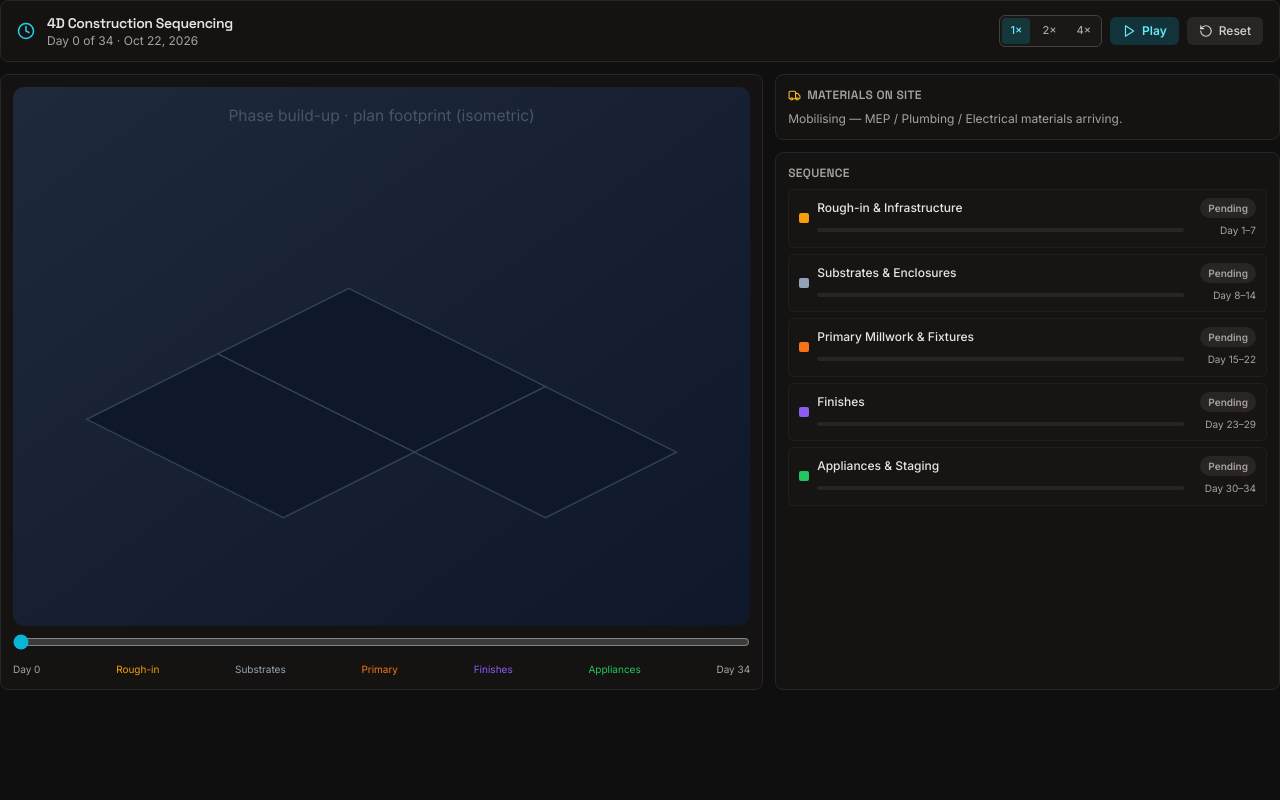
Test case: ConstructionSequenceView › scrubbing into the substrates phase marks rough-in complete
The width and height of the screenshot is (1280, 800).
Set the slider named "Construction timeline" to "10" at (233, 642), box [13, 634, 750, 650]
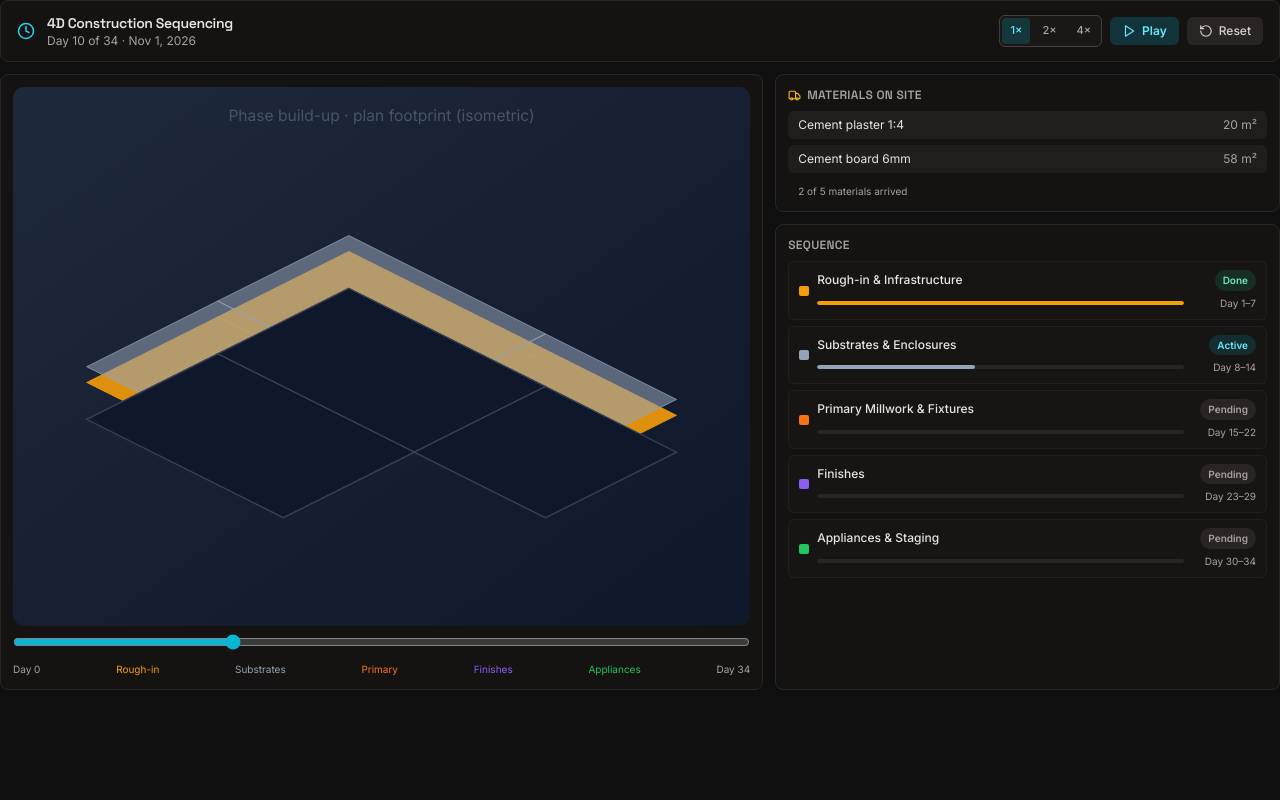
Expected: the text "Day 10 of 34 · Nov 1, 2026" is shown, [47, 33, 196, 48]
